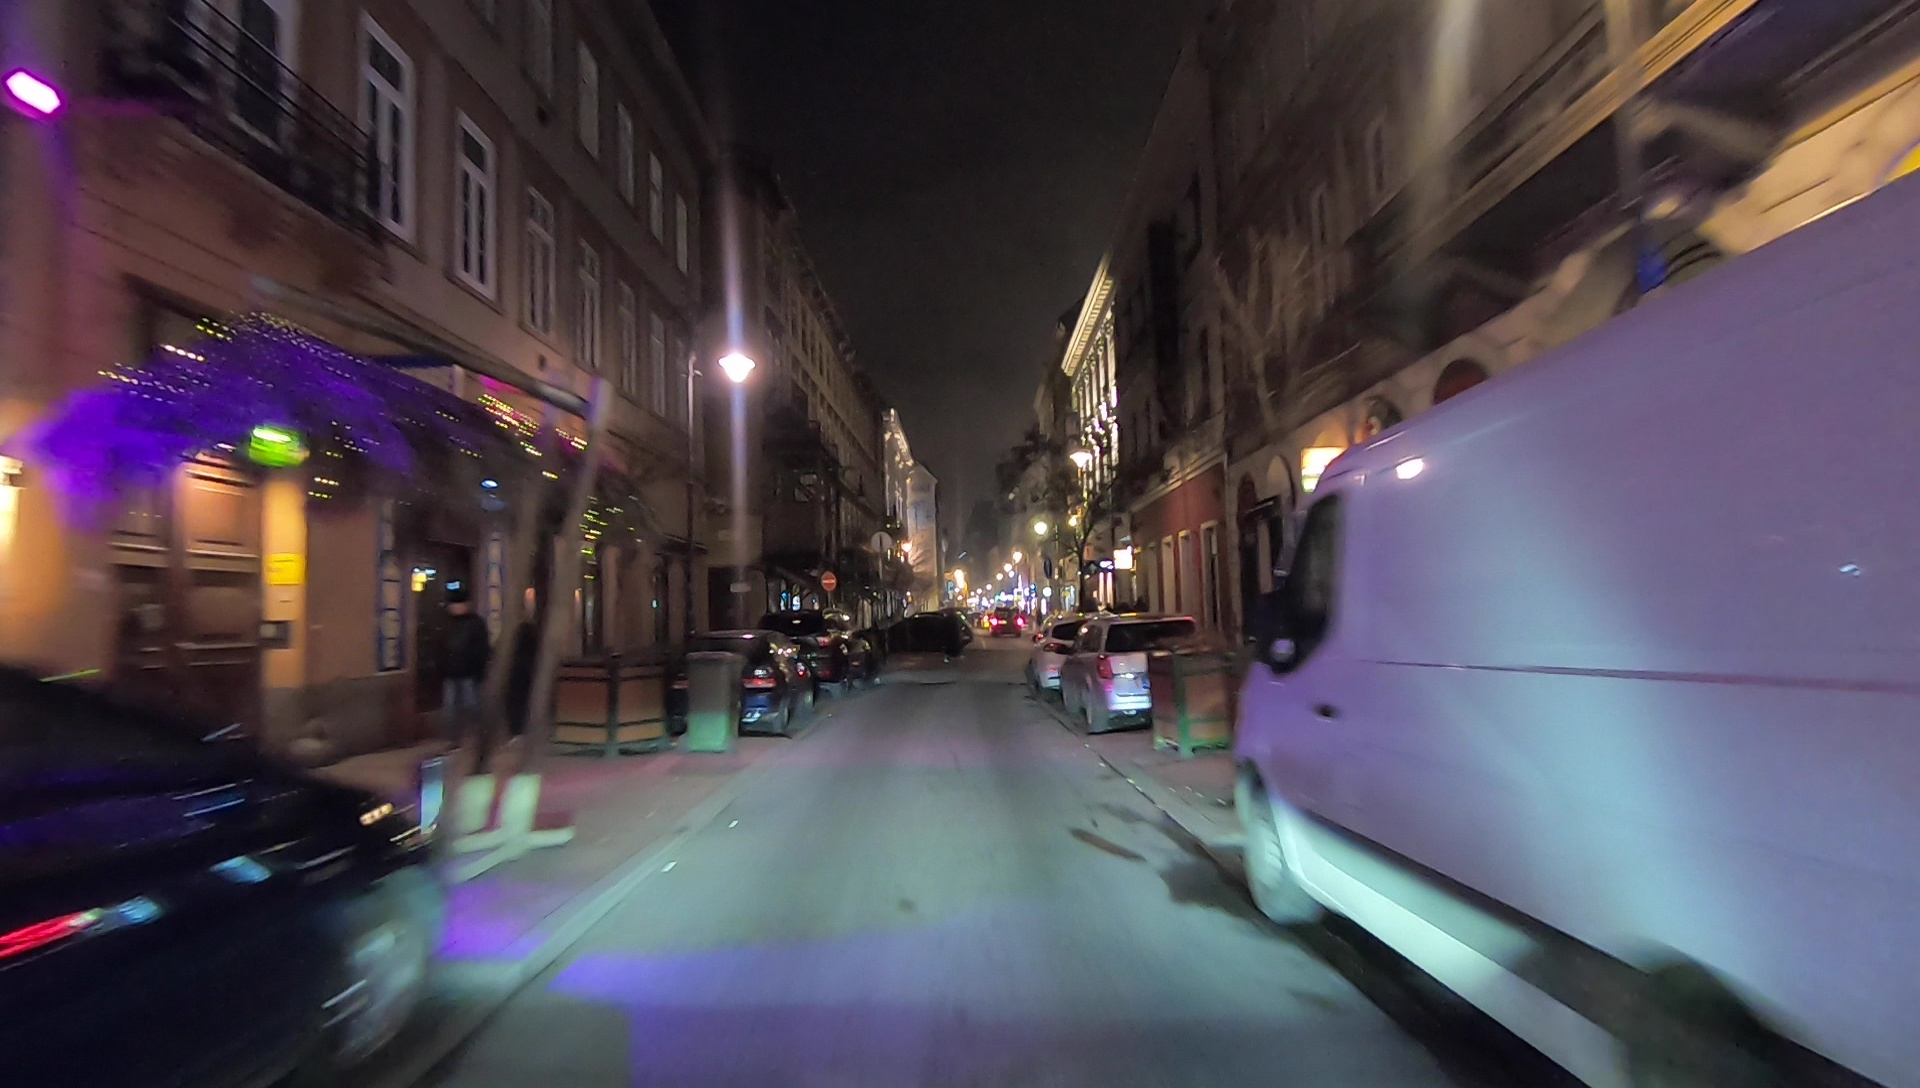person: (426, 591, 493, 752), (936, 600, 967, 665)
